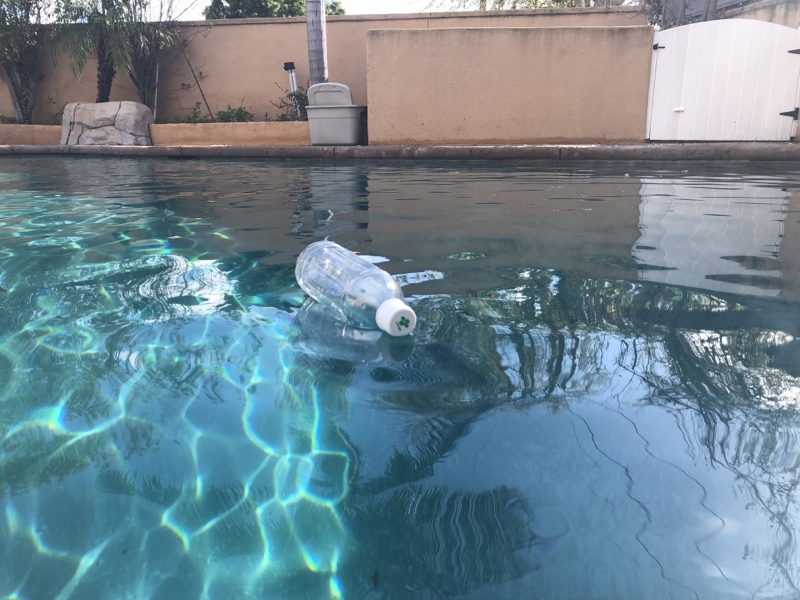Plastic Bottle: (291, 239, 420, 342)
